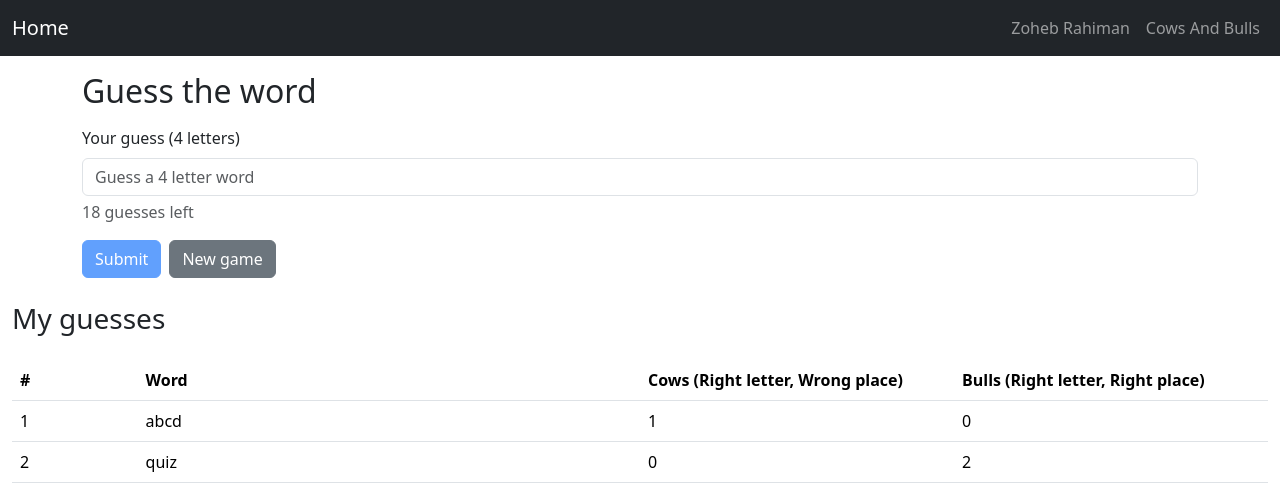
Test case: winning › shows the answer and attempt count, and replaces the form with a new-game button
Step 1. Type "gold" into the field labelled "Your guess (4 letters)" → (640,177), box [82,158,1198,196]
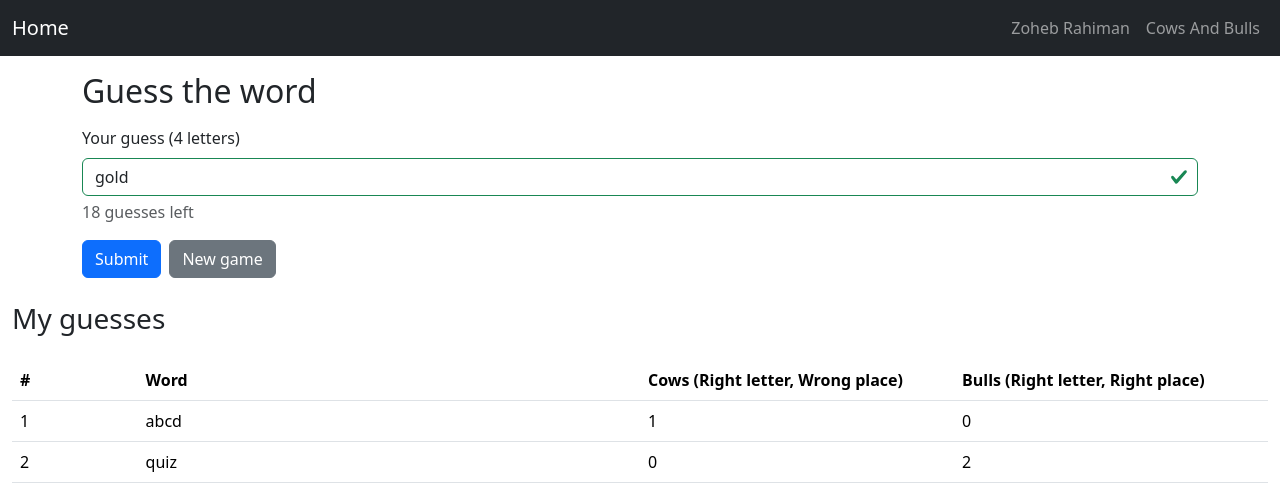
Step 2. Click the button "Submit" → (122,259), box [82,240,161,278]
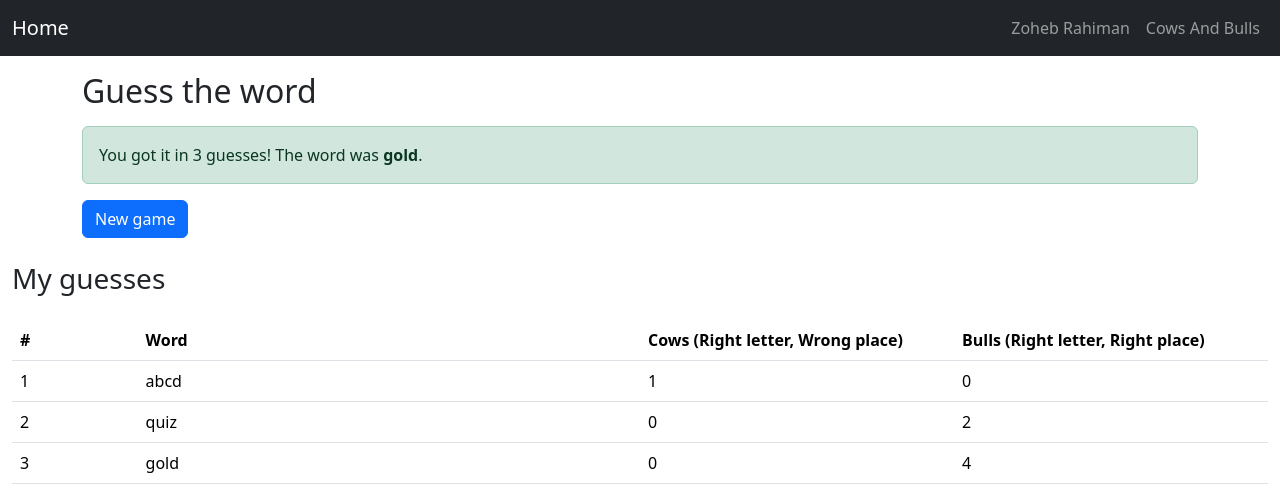
Result: the text "You got it in 3 guesses! The word was gold." is shown at [82,126,1198,184]
Result: the label labelled "Your guess" is gone
Result: the number of rows is 4 at [12,320,1268,360]; [12,360,1268,402]; [12,402,1268,442]; [12,442,1268,484]
